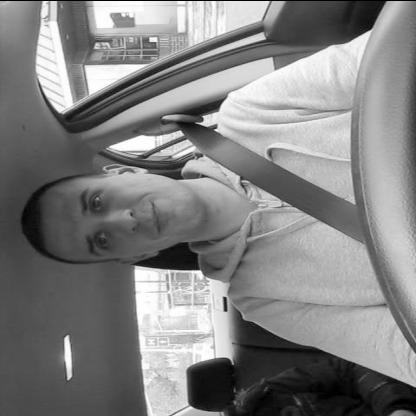seatbelt: (20, 127, 358, 276)
